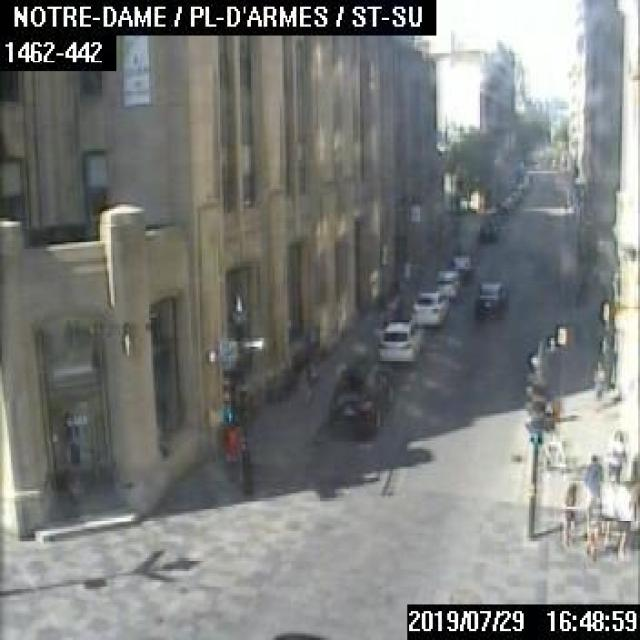pedestrian: (582, 453, 603, 533), (218, 420, 240, 496), (604, 428, 625, 492), (562, 480, 578, 547), (626, 451, 638, 529), (304, 354, 318, 408), (592, 360, 603, 410)
vehicle: (331, 358, 390, 434), (374, 318, 422, 362), (408, 289, 448, 330), (475, 280, 507, 318), (434, 268, 462, 297), (478, 222, 498, 240)
